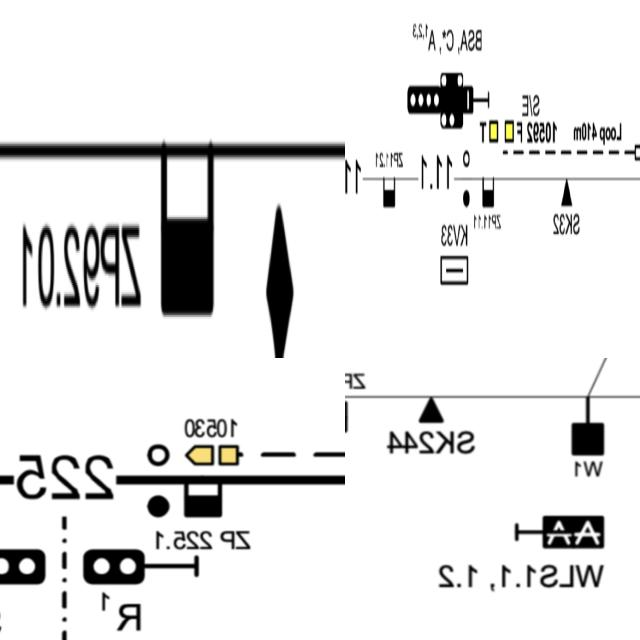radzaehler: (158, 123, 219, 326), (180, 478, 226, 520), (381, 172, 397, 213)
tracknumber: (6, 444, 122, 511), (419, 144, 454, 201)
weiche: (562, 386, 612, 462)
